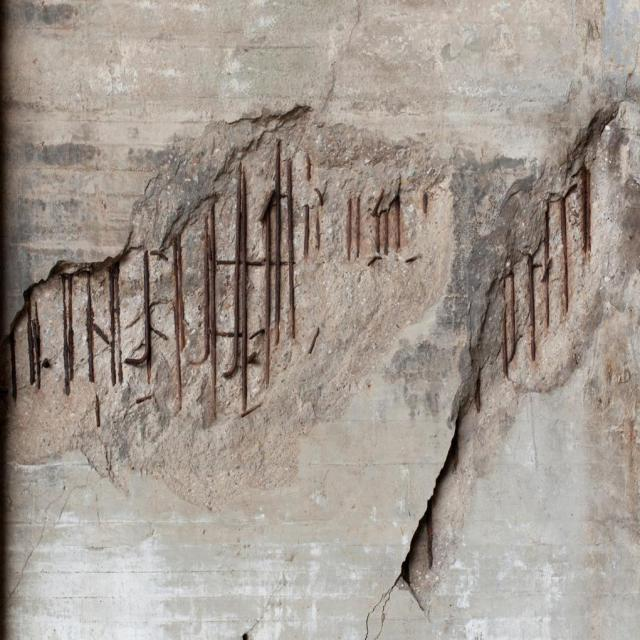Rebar: (0, 104, 455, 513), (397, 103, 639, 610)
diagonal crack: (1, 466, 99, 607), (318, 0, 362, 113), (246, 563, 289, 630), (364, 585, 394, 639)
